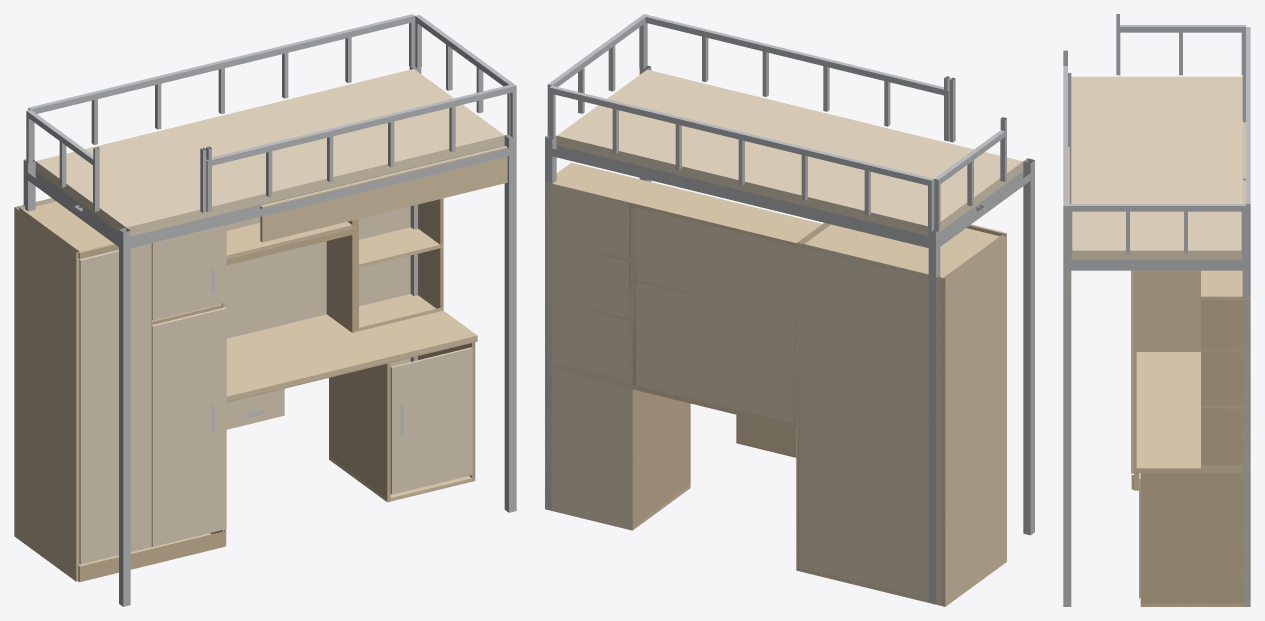
File: 单张书桌.glb
3 renders of one model, left to right at view 1: azimuth 30°, elevation 25°; view 2: azimuth 150°, elevation 25°; view 3: azimuth 270°, elevation 25°, orthographic. The views are drawn at different scales.
Visible parts, largest first — view 1: dorm_desk_base; view 2: dorm_desk_base; view 3: dorm_desk_base.
Boxes of the visible parts, x1,y1,x2,y2 form: dorm_desk_base: (14,14,516,606); dorm_desk_base: (545,14,1034,606); dorm_desk_base: (1063,14,1250,606).
Bounding box in the file's own units: 2.15 × 2.23 × 0.92.
